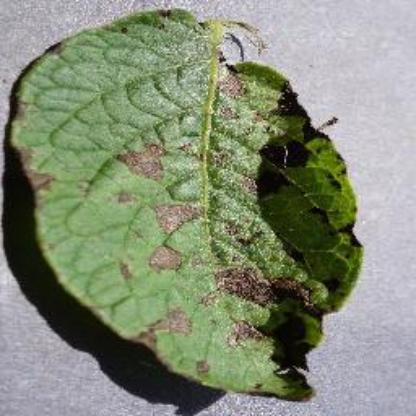Early-Blight: (6, 5, 378, 403)
